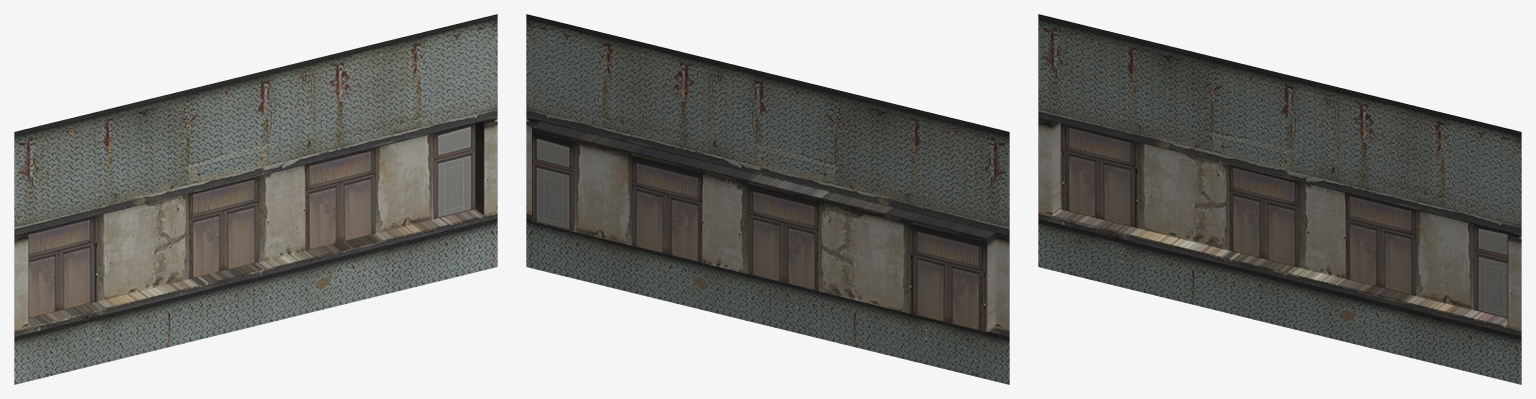
File: CT_Building_Piece_02.fbx
3 views of the same model, side by side, from view 1: azimuth 30°, elevation 25°; view 2: azimuth 150°, elevation 25°; view 3: azimuth 330°, elevation 25° (orthographic).
Parts seen in each view (by area): view 1: CT_Building_Piece_02; view 2: CT_Building_Piece_02; view 3: CT_Building_Piece_02.
Boxes of the visible parts, x1=… form: CT_Building_Piece_02: x1=14, y1=14, x2=497, y2=384; CT_Building_Piece_02: x1=526, y1=14, x2=1009, y2=384; CT_Building_Piece_02: x1=1038, y1=14, x2=1521, y2=384.
Bounding box in the file's own units: 512 × 256 × 15.
